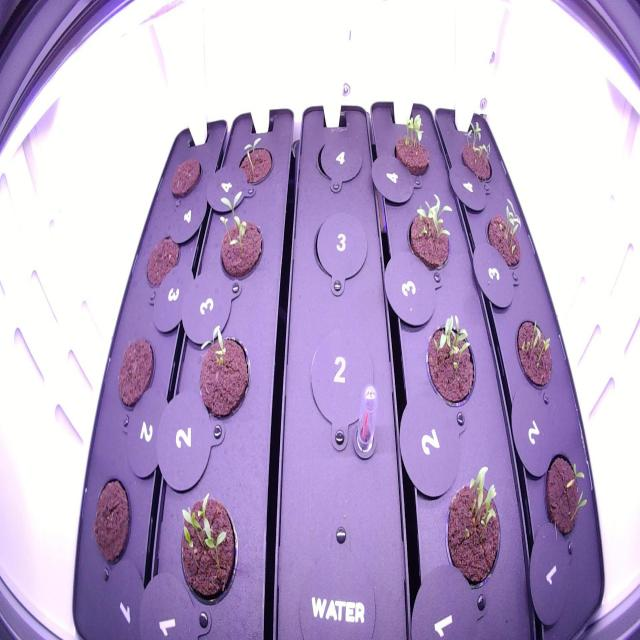empty_pod: (301, 326, 382, 444), (309, 206, 374, 290), (309, 128, 367, 196)
germination: (439, 451, 507, 600), (171, 482, 242, 615), (192, 316, 256, 436), (421, 304, 481, 422), (208, 181, 268, 291), (539, 443, 593, 557), (403, 188, 458, 282), (508, 306, 560, 401), (479, 190, 528, 284), (452, 112, 497, 199), (387, 106, 436, 185), (227, 131, 276, 199)
pod: (85, 467, 136, 572), (110, 330, 158, 417), (141, 227, 184, 292), (164, 146, 205, 208)
